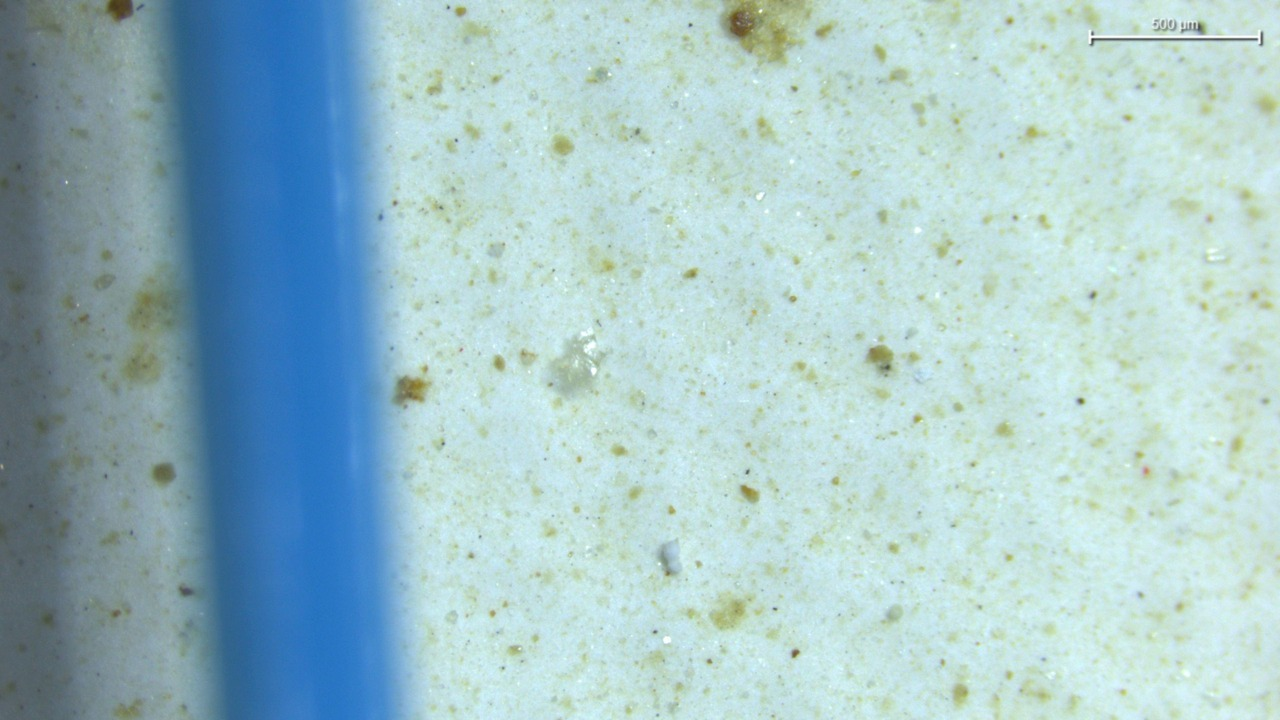microplastic_fragment: (548, 329, 599, 395)
